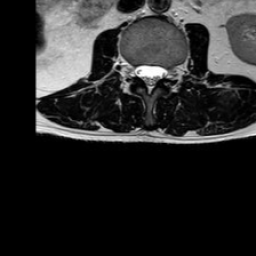CCS_normal: (145, 57, 154, 99)
LFS_normal: (166, 55, 175, 87)
LLS_normal: (154, 57, 166, 87)
RFS_normal: (125, 54, 135, 85)
RLS_normal: (135, 58, 145, 90)
